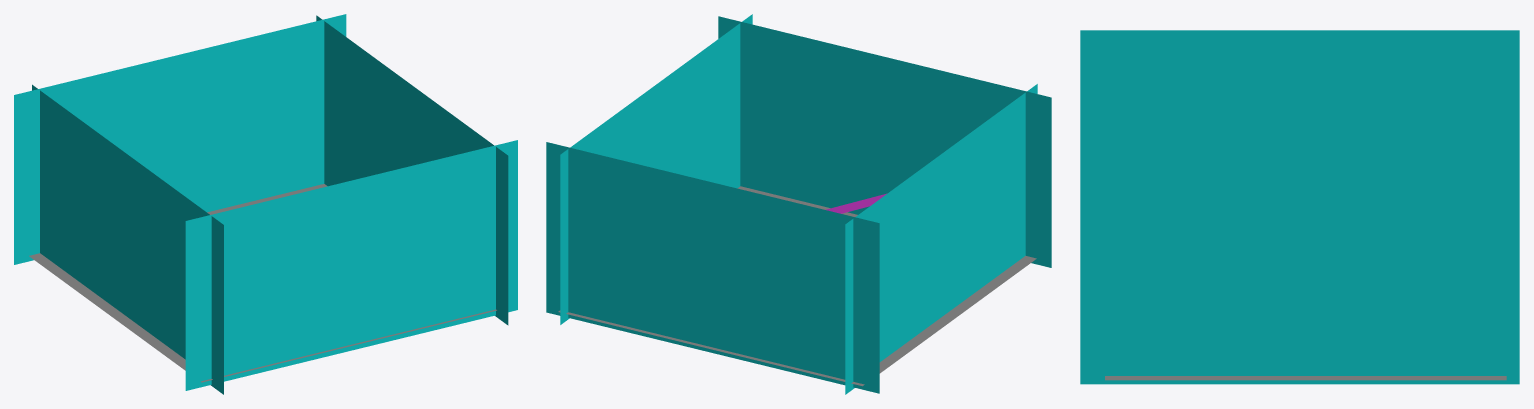
The model's file is test-map-1.fbx.
3 views of the same model, side by side, from view 1: azimuth 30°, elevation 25°; view 2: azimuth 150°, elevation 25°; view 3: azimuth 270°, elevation 25° (orthographic). The views are drawn at different scales.
Visible parts, largest first — view 1: Plane.002, Plane.001, Plane.003, Plane.004, Plane; view 2: Plane.001, Plane.002, Plane.003, Plane.004, Plane; view 3: Plane.004, Plane.003, Plane.
Boxes of the visible parts, bbox=[...] form: Plane.002: bbox=[185, 140, 517, 390]; Plane.001: bbox=[14, 14, 346, 264]; Plane.003: bbox=[32, 84, 223, 394]; Plane.004: bbox=[316, 15, 508, 325]; Plane: bbox=[29, 184, 496, 382]; Plane.001: bbox=[546, 142, 879, 393]; Plane.002: bbox=[718, 16, 1051, 267]; Plane.003: bbox=[845, 84, 1037, 394]; Plane.004: bbox=[560, 14, 752, 324]; Plane: bbox=[558, 186, 1036, 386]; Plane.004: bbox=[1080, 189, 1519, 384]; Plane.003: bbox=[1080, 30, 1519, 189]; Plane: bbox=[1105, 376, 1506, 380].
Size of the model in its own units: 2188 by 1081 by 2187.
